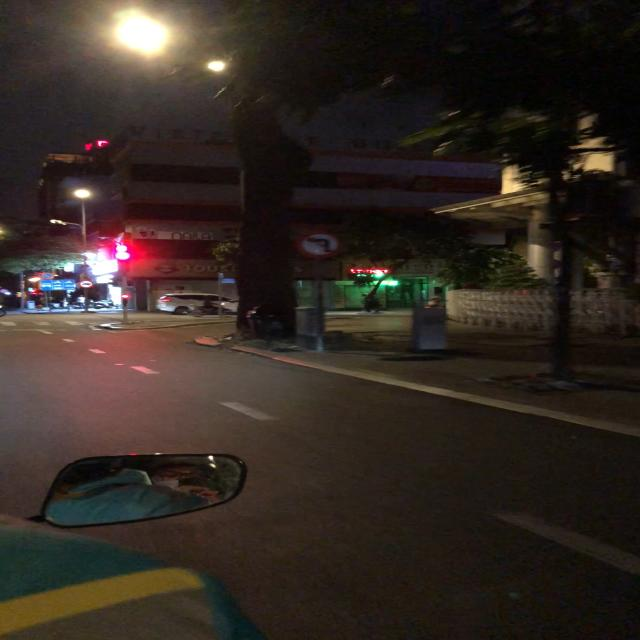Bien bao cam re trai: (287, 226, 353, 262)
